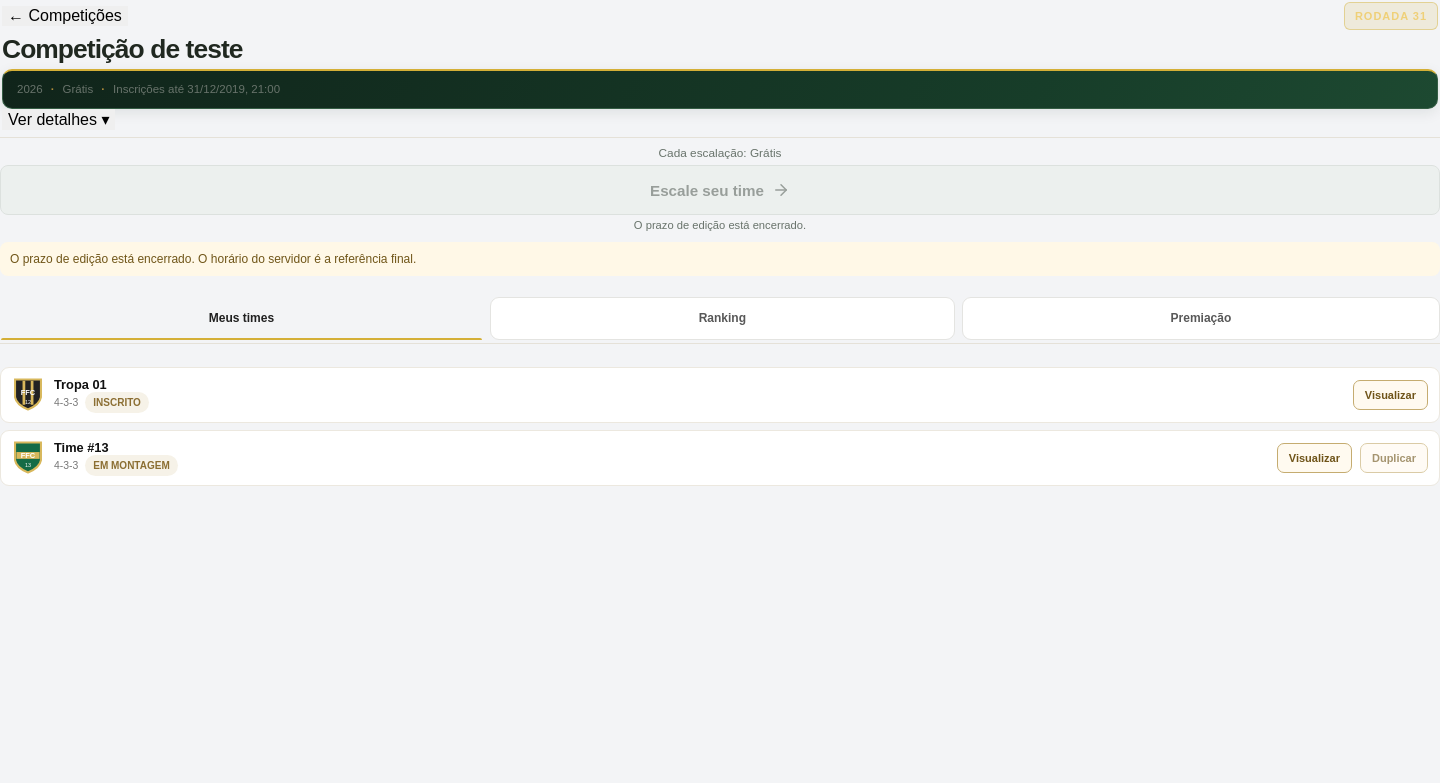
lists registered and unfinished teams and respects closed=true
Expected: the number of pictures named "Brasão do time" is 2, [13, 377, 43, 412]; [13, 440, 43, 475]
Expected: the text "4-3-3" is shown 2 times, [54, 392, 149, 413]; [54, 455, 178, 476]
Step 1. Click the button "Visualizar" in the row of "Tropa 01" → (1390, 395), box [1353, 380, 1428, 410]
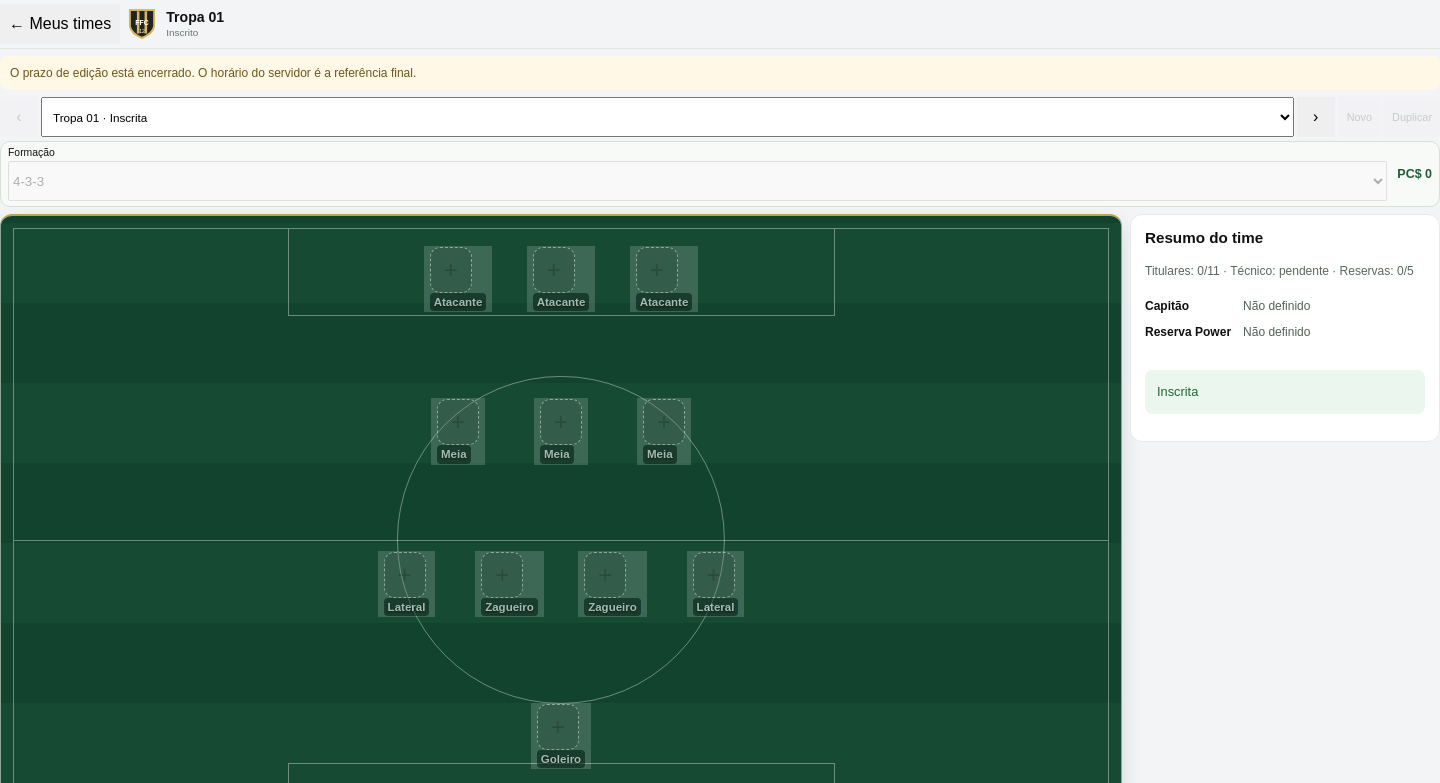
Expected: the text "Inscrito" is shown, [166, 28, 198, 38]
Expected: the dropdown named "Formação tática" is disabled, [8, 161, 1387, 201]
